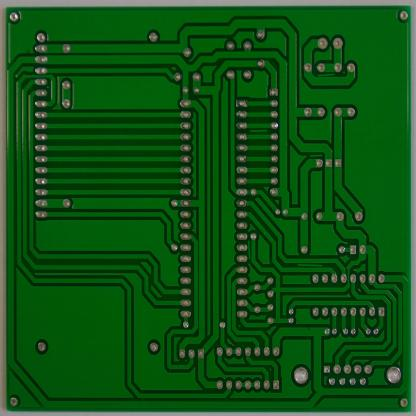spurious_copper: (296, 259, 323, 270), (248, 126, 270, 136), (316, 70, 336, 79), (245, 239, 252, 261), (306, 150, 324, 158)
